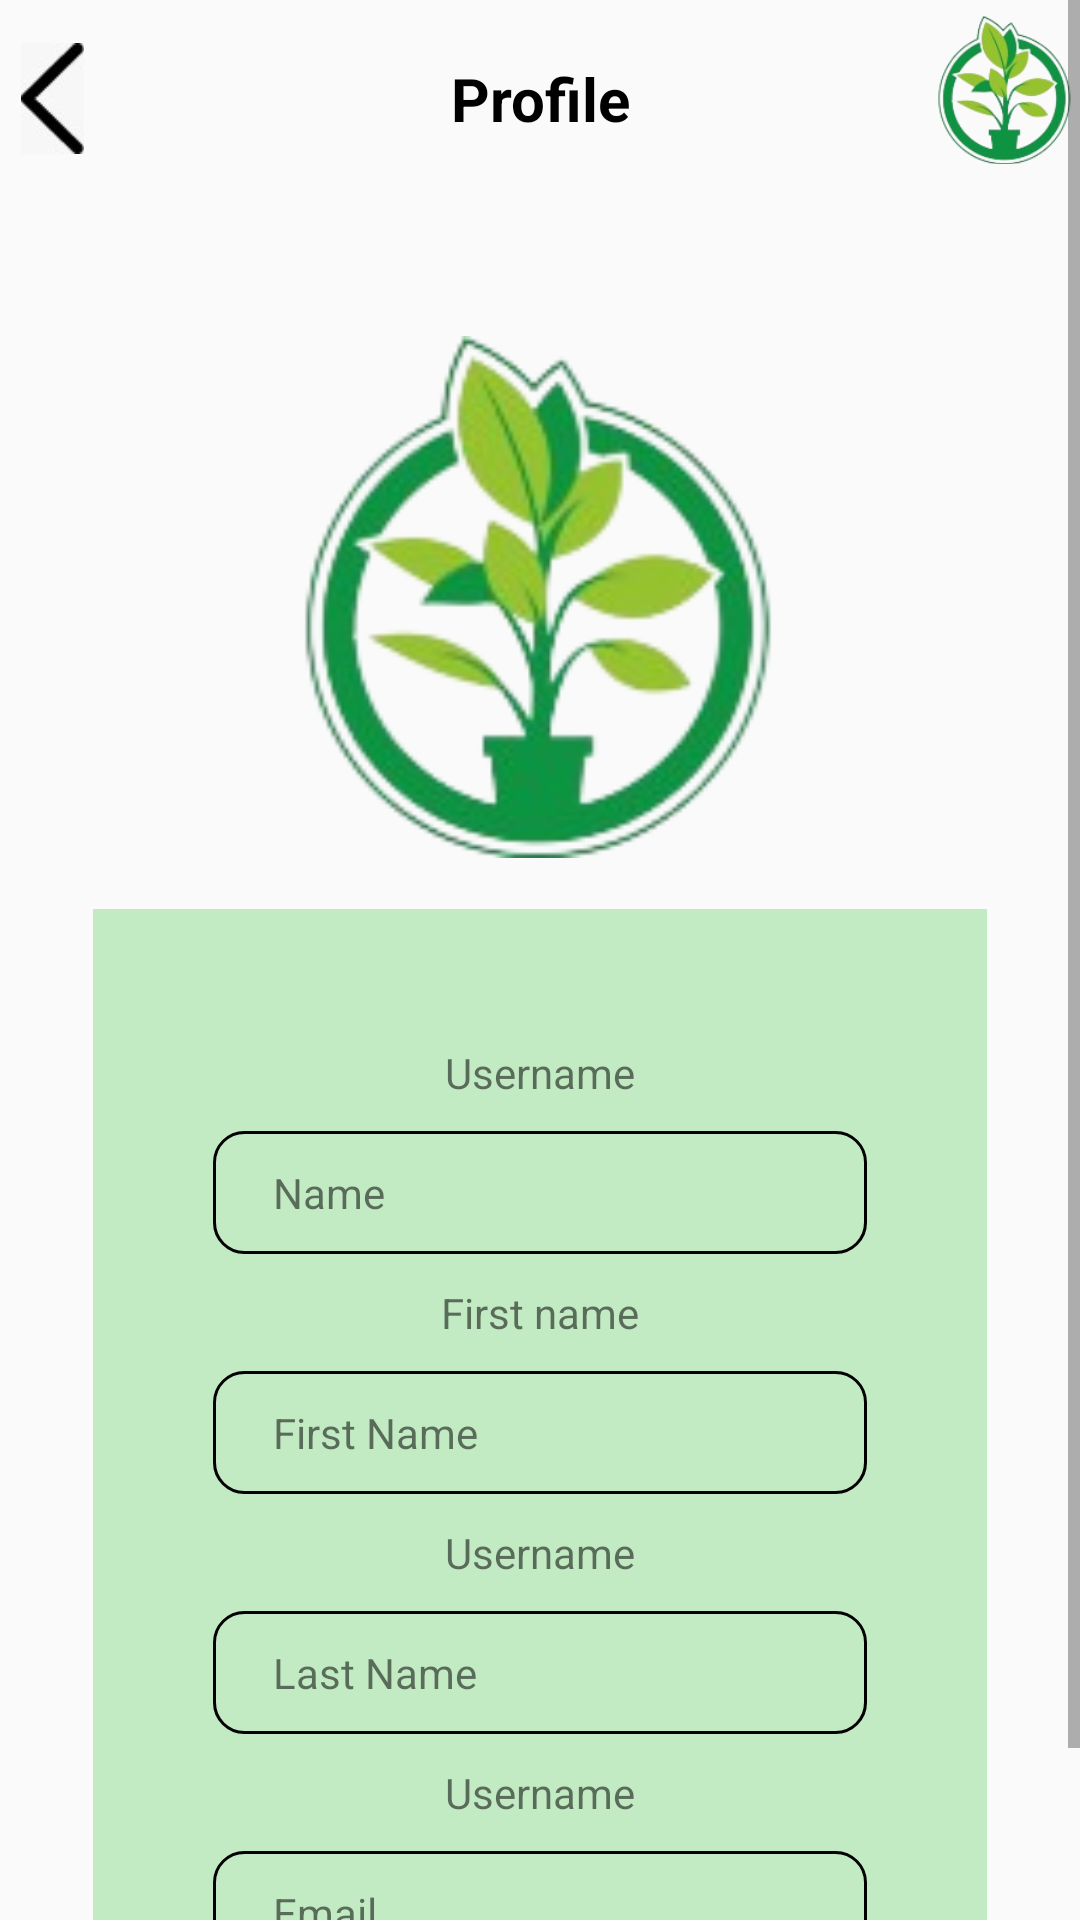

Locate icon controls on the screen. Image size 1080×1920, boxes as BBox(x1, y1, x2, y2).
back: BBox(21, 43, 84, 154)
